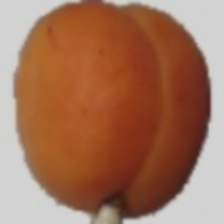apricot: (33, 31, 174, 182)
